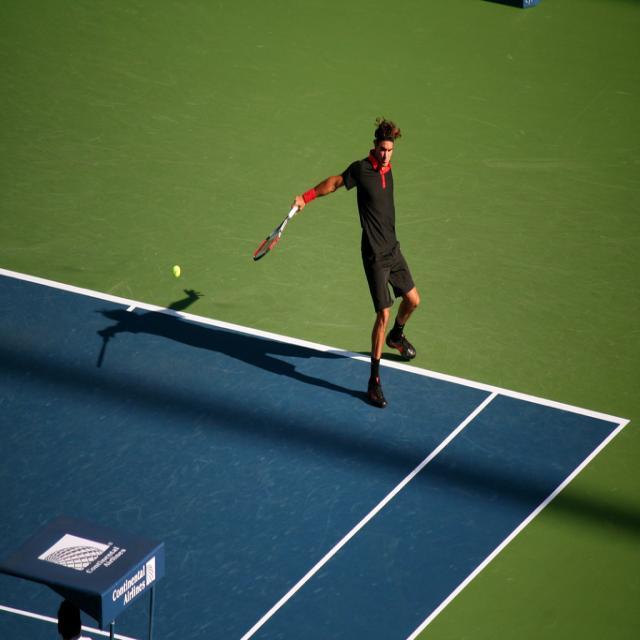ball: (172, 264, 184, 280)
